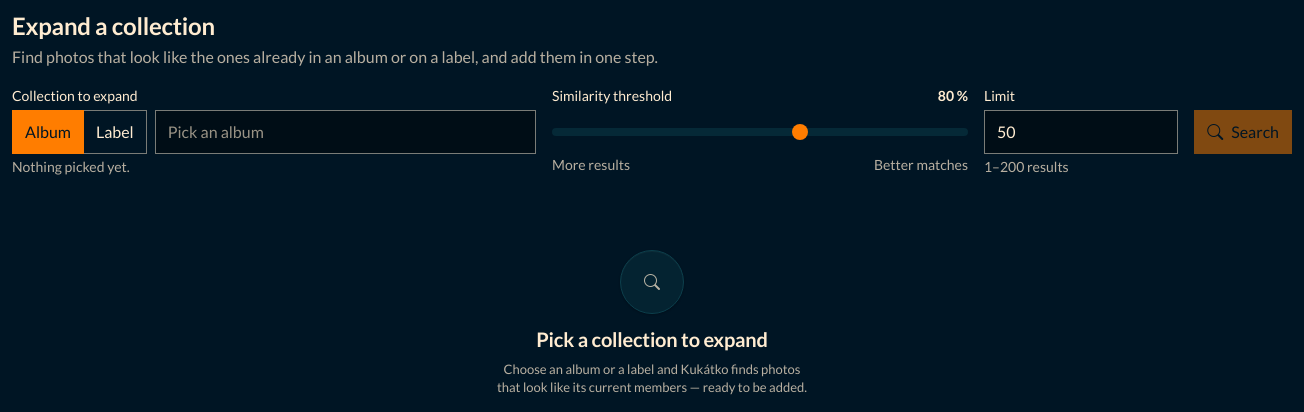
Test: ExpandPage › renders the chosen source as the checked toggle option, and moves it on a click
This screenshot has width=1304, height=412.
Check: the radio button labelled "Album" is checked, box [12,110,25,123]
Check: the radio button labelled "Label" is not checked, box [12,110,25,123]
Click the text "Label": point(115, 132) [83,110,147,154]
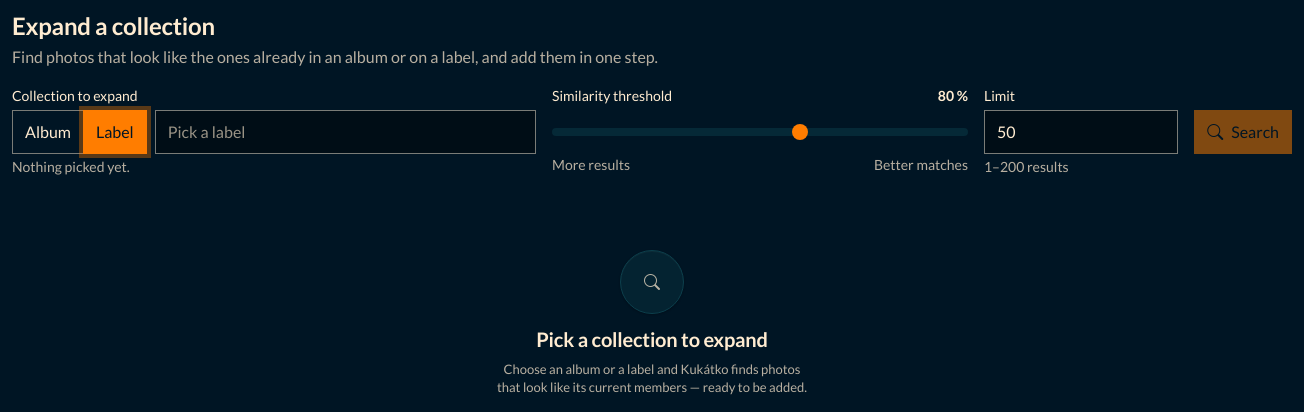
Check: the radio button labelled "Label" is checked, box [12,110,25,123]
Check: the radio button labelled "Album" is not checked, box [12,110,25,123]
Check: the dropdown labelled "Pick a label" is shown, box [155,110,536,154]
